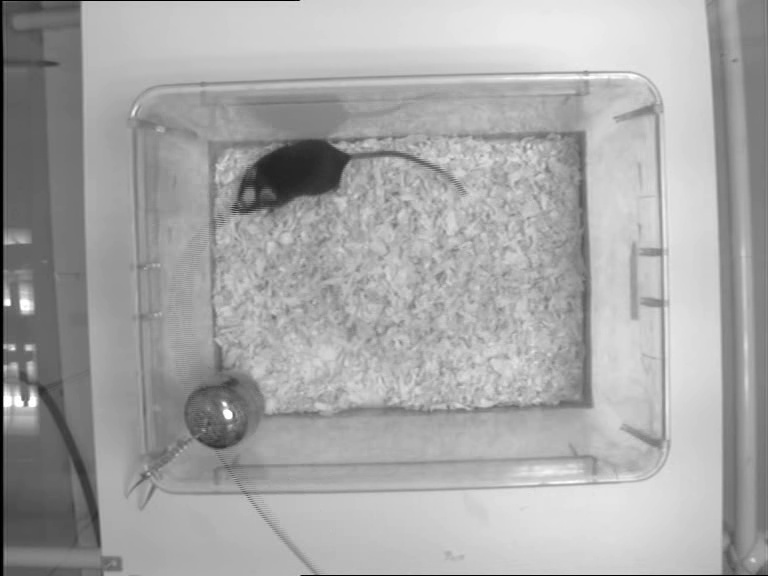mice: (229, 137, 470, 215)
